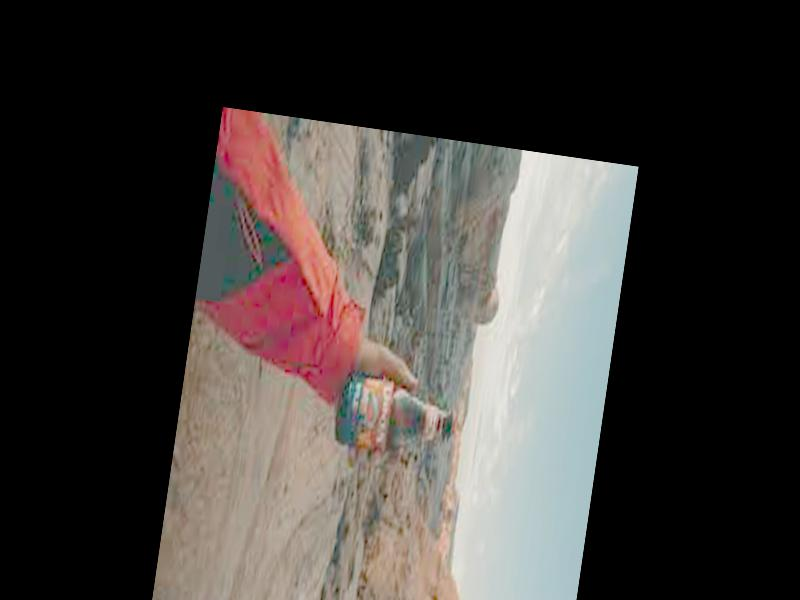Beer: (332, 366, 459, 463)
